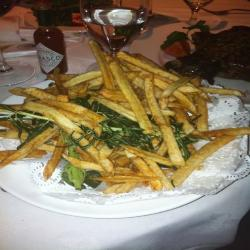fries: (30, 71, 198, 180)
